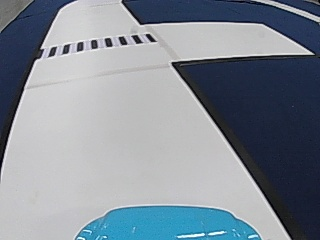CrossWalk: (40, 32, 155, 57)
